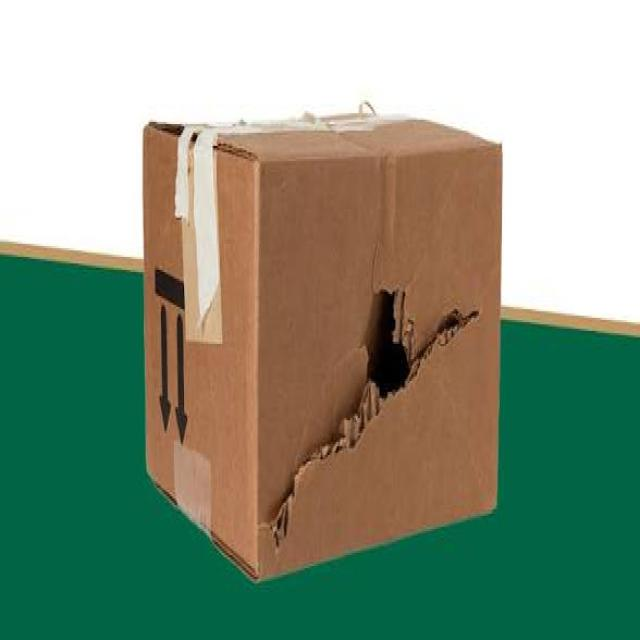carton_box: (135, 99, 514, 592)
package_damage: (268, 246, 488, 559), (142, 108, 266, 173)
this_side_up_label: (147, 247, 202, 455)
